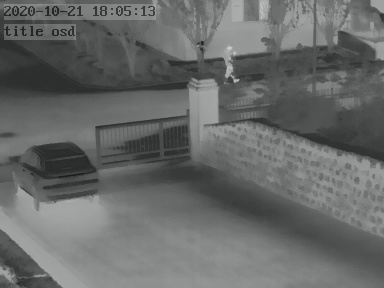person: (225, 44, 237, 81)
vehicle: (10, 141, 100, 208)
